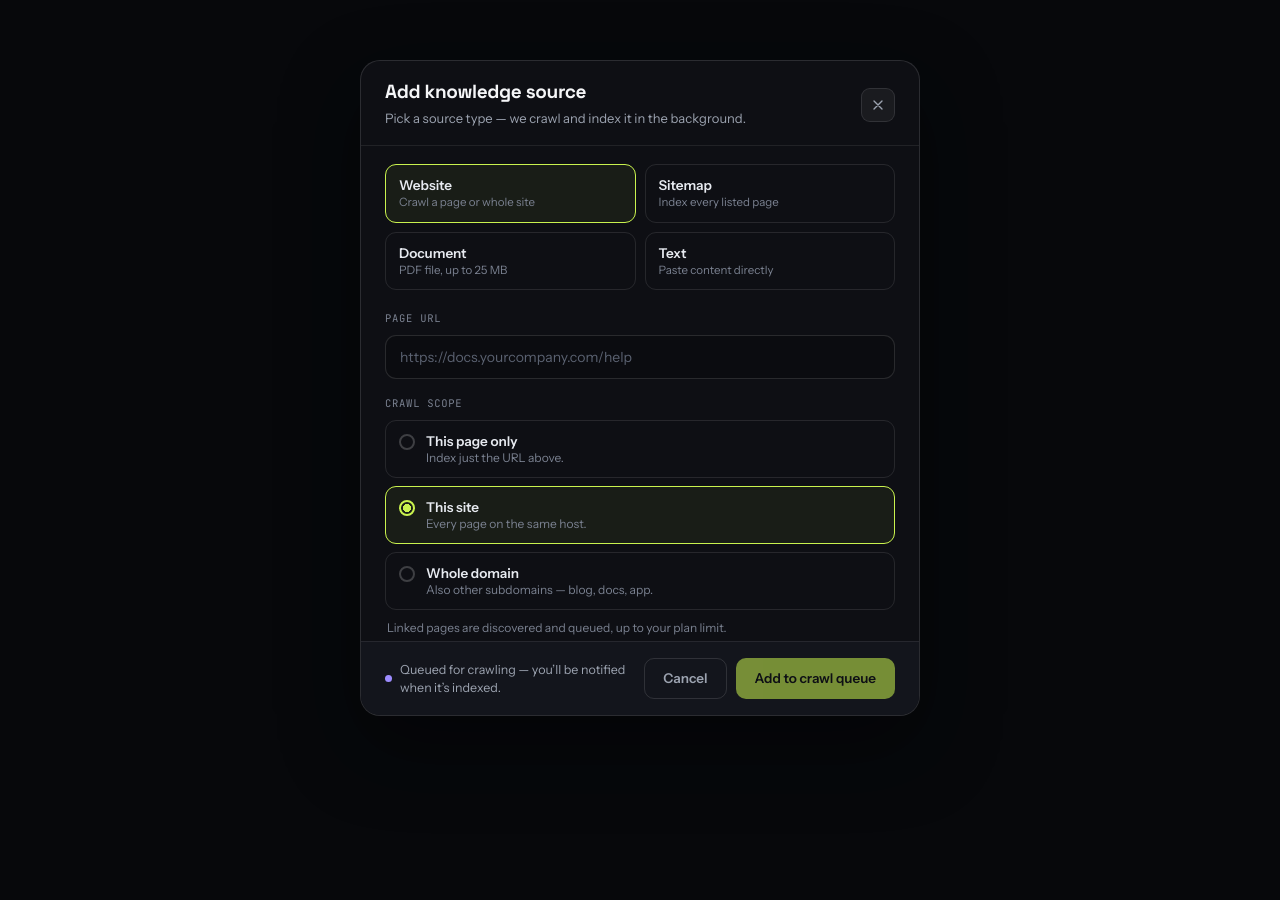
Scenario: KnowledgeAddSourceModal crawl scope › offers no section option for a homepage URL
The image size is (1280, 900).
Type "https://paywithatoa.co.uk" into the field with id "kb-add-url" at (640, 357), box [385,335,895,379]
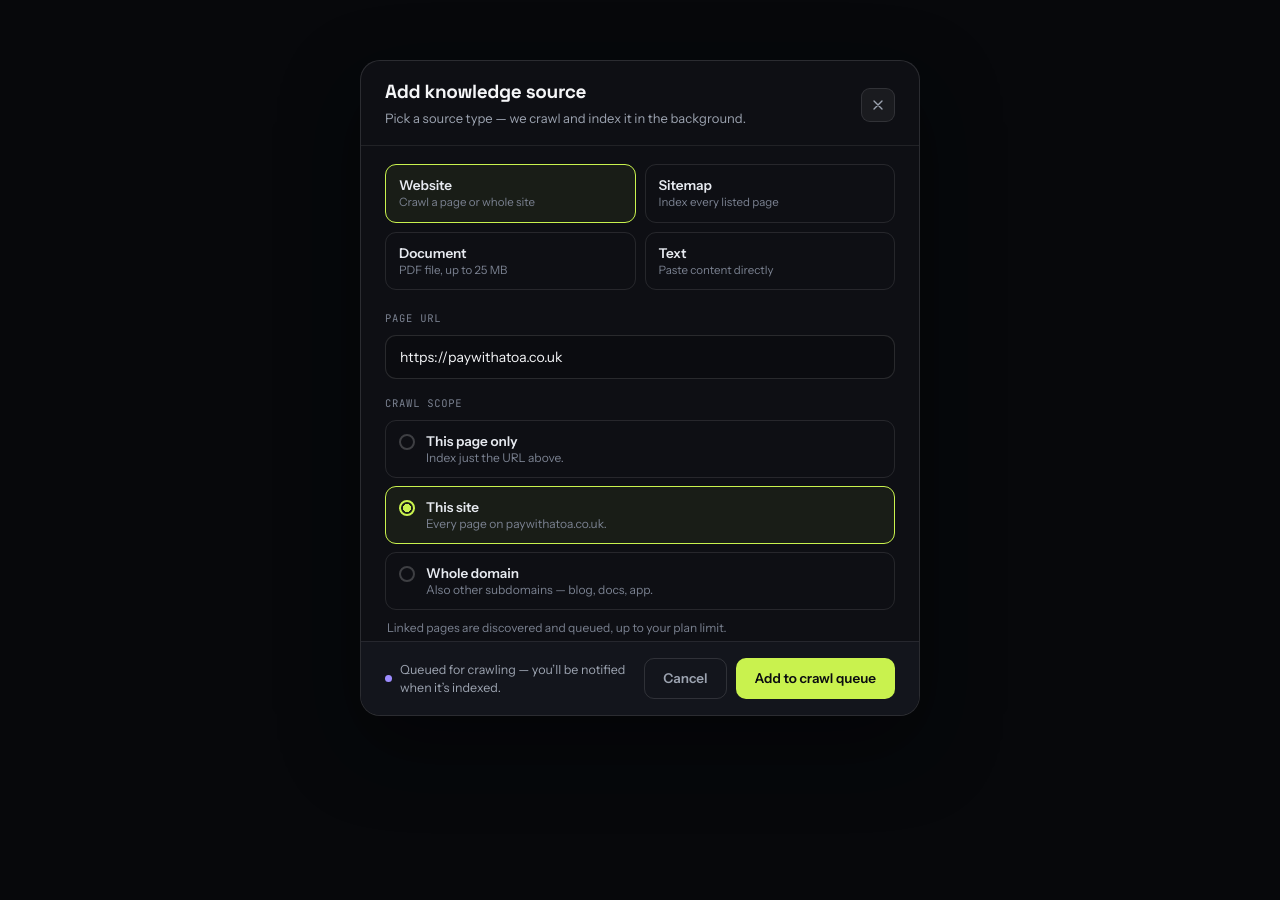
Result: the button "This site Every page on paywithatoa.co.uk." is shown at [385,486,895,544]
